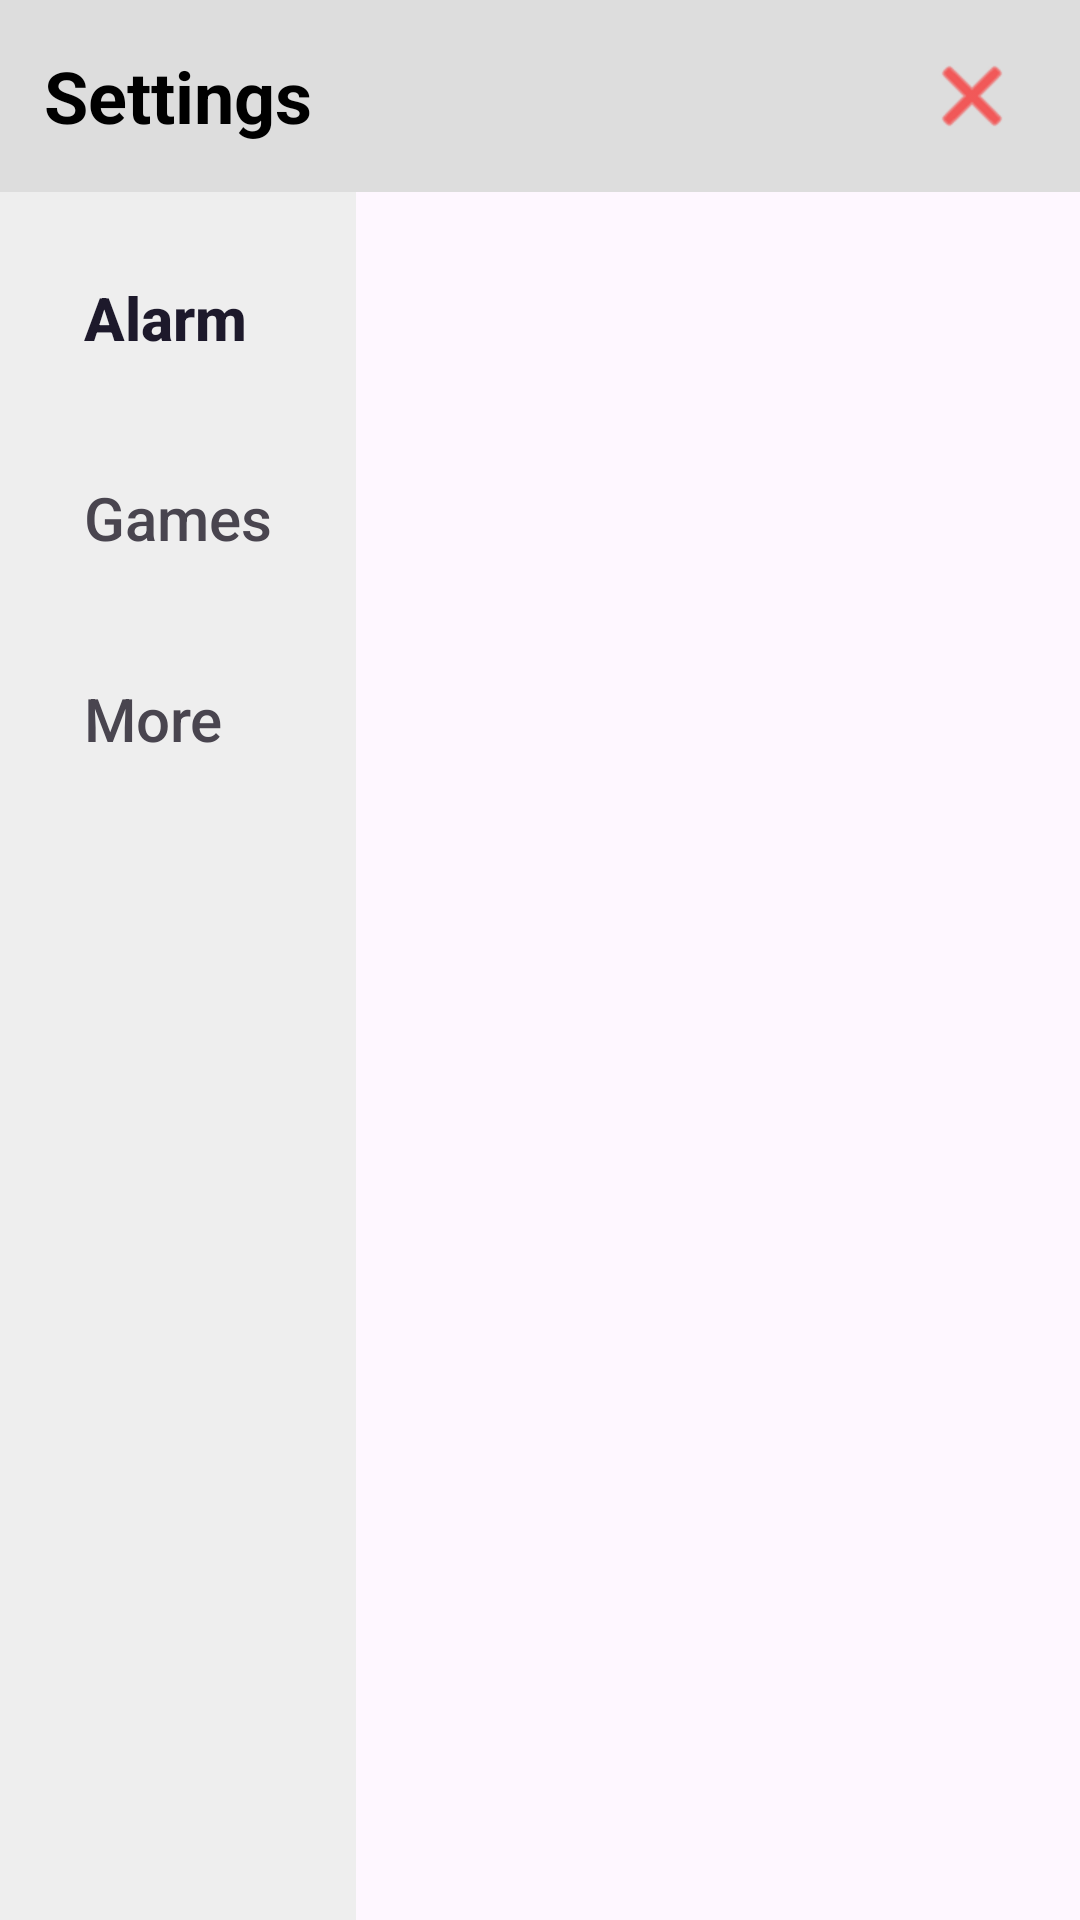

Named icons in this screenshot (1080x1920) and their centers, (x,y):
close clear cancel: (972,96)
